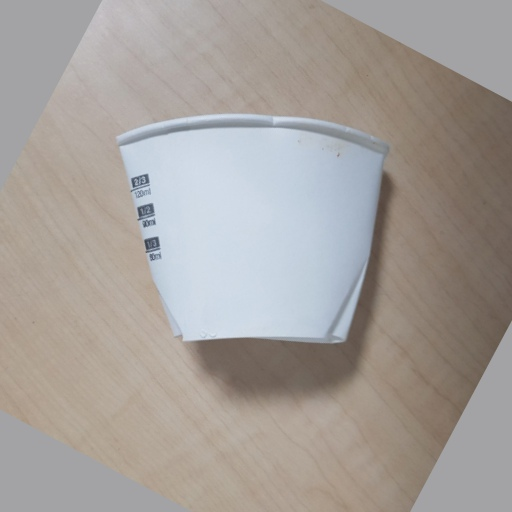Paper_1: (112, 108, 390, 349)
